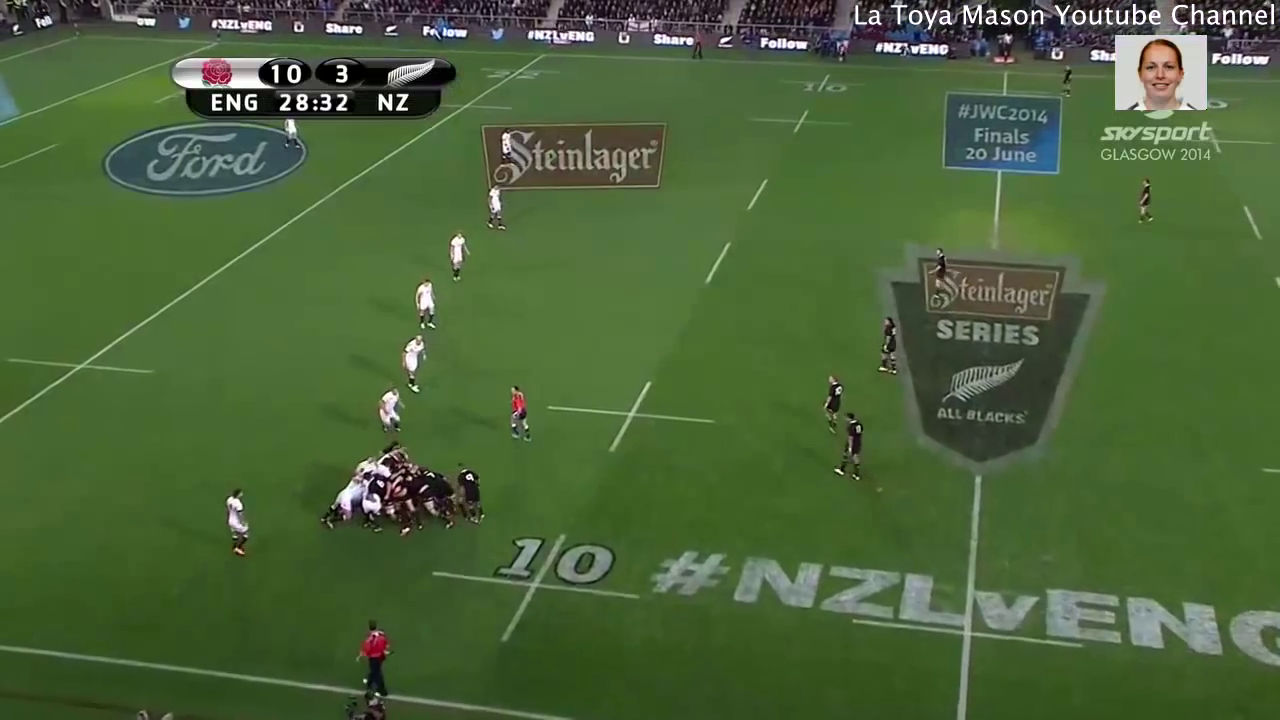10_metre: (424, 526, 650, 651), (546, 373, 720, 460), (743, 105, 858, 139), (768, 70, 873, 101)
player: (345, 612, 403, 704), (825, 408, 879, 492), (868, 308, 914, 387), (389, 326, 437, 399), (217, 484, 257, 570), (402, 471, 459, 525), (499, 380, 541, 448), (451, 463, 493, 523), (406, 272, 445, 336), (921, 240, 955, 308), (441, 227, 478, 289), (1126, 167, 1161, 231), (815, 368, 846, 438), (480, 179, 515, 238), (370, 382, 408, 436), (319, 487, 365, 531), (356, 490, 392, 532), (493, 122, 519, 168), (363, 467, 394, 504), (277, 112, 304, 151), (1057, 62, 1078, 100)
